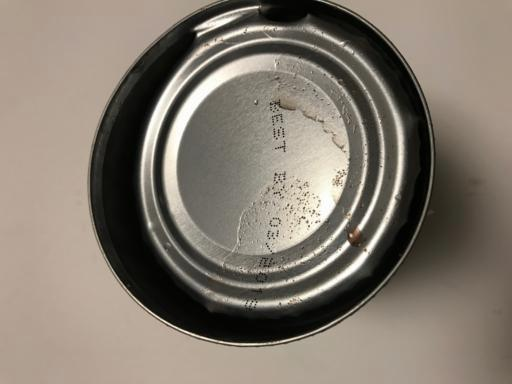metal: (89, 2, 436, 350)
